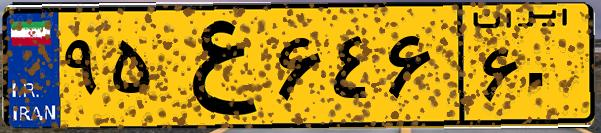0: (525, 38, 570, 115)
4: (330, 28, 385, 110)
5: (110, 28, 158, 98)
6: (270, 28, 330, 110), (385, 28, 445, 110), (475, 38, 525, 113)
9: (57, 26, 110, 100)
ع: (158, 12, 270, 120)
